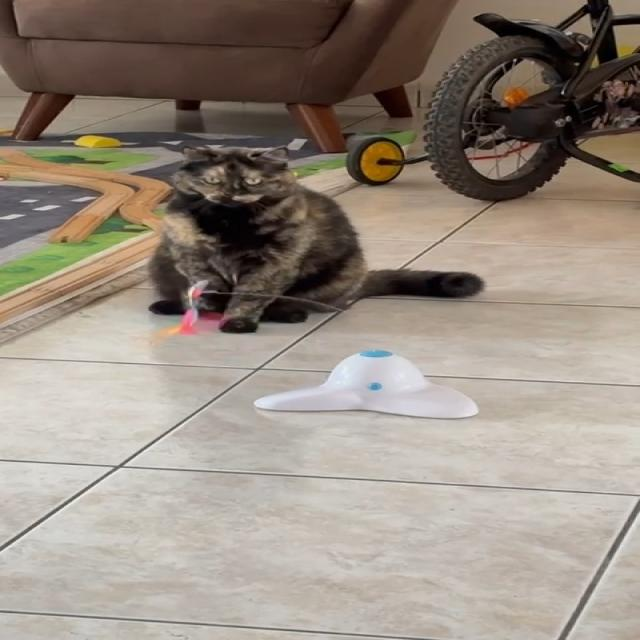authorized: (145, 142, 484, 332)
